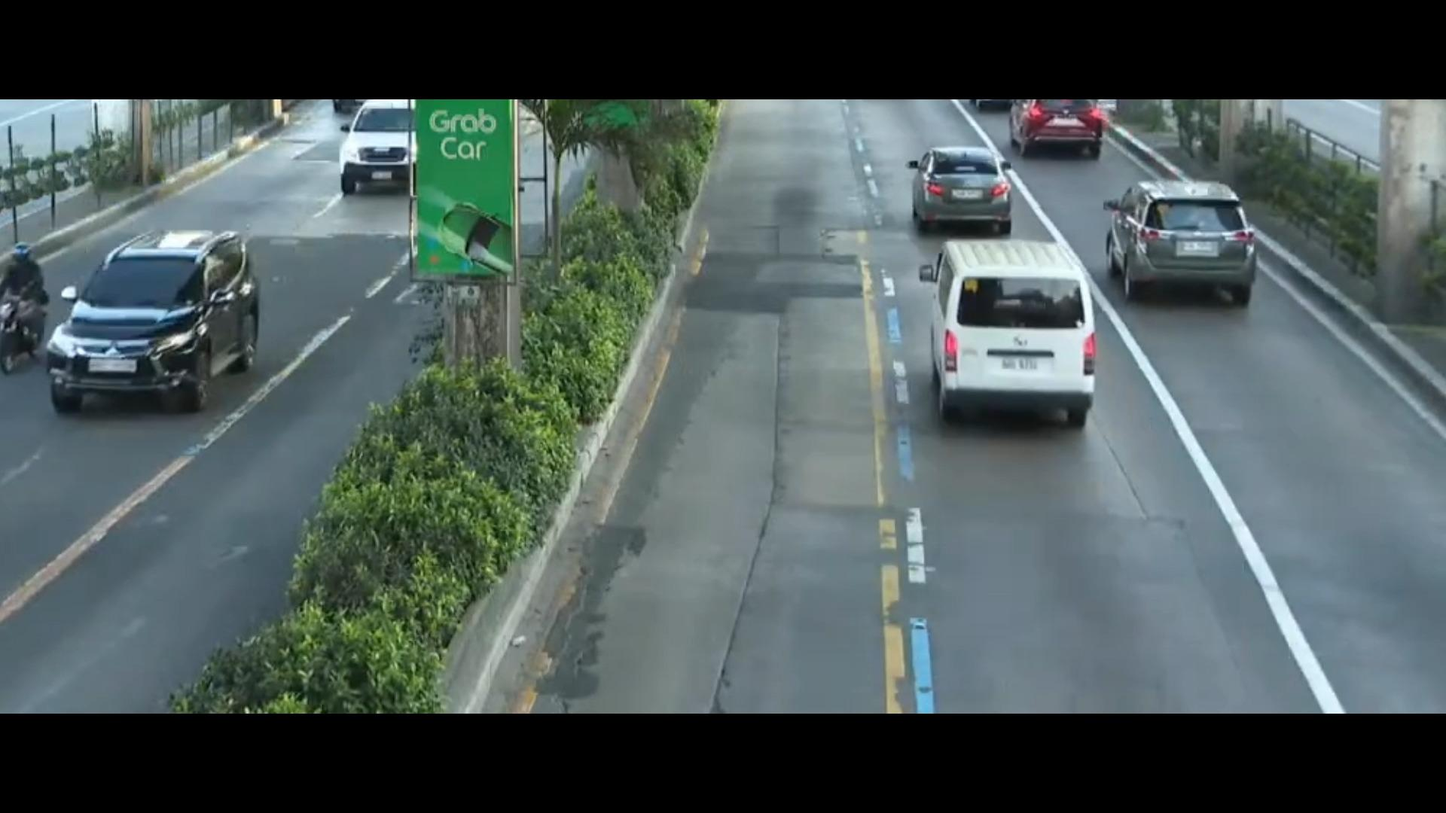Motorcycle: (0, 232, 72, 373)
SUV: (36, 202, 288, 433), (1113, 166, 1292, 313), (339, 104, 425, 197)
Sedan: (904, 142, 1033, 248)
Van: (917, 217, 1132, 466)
